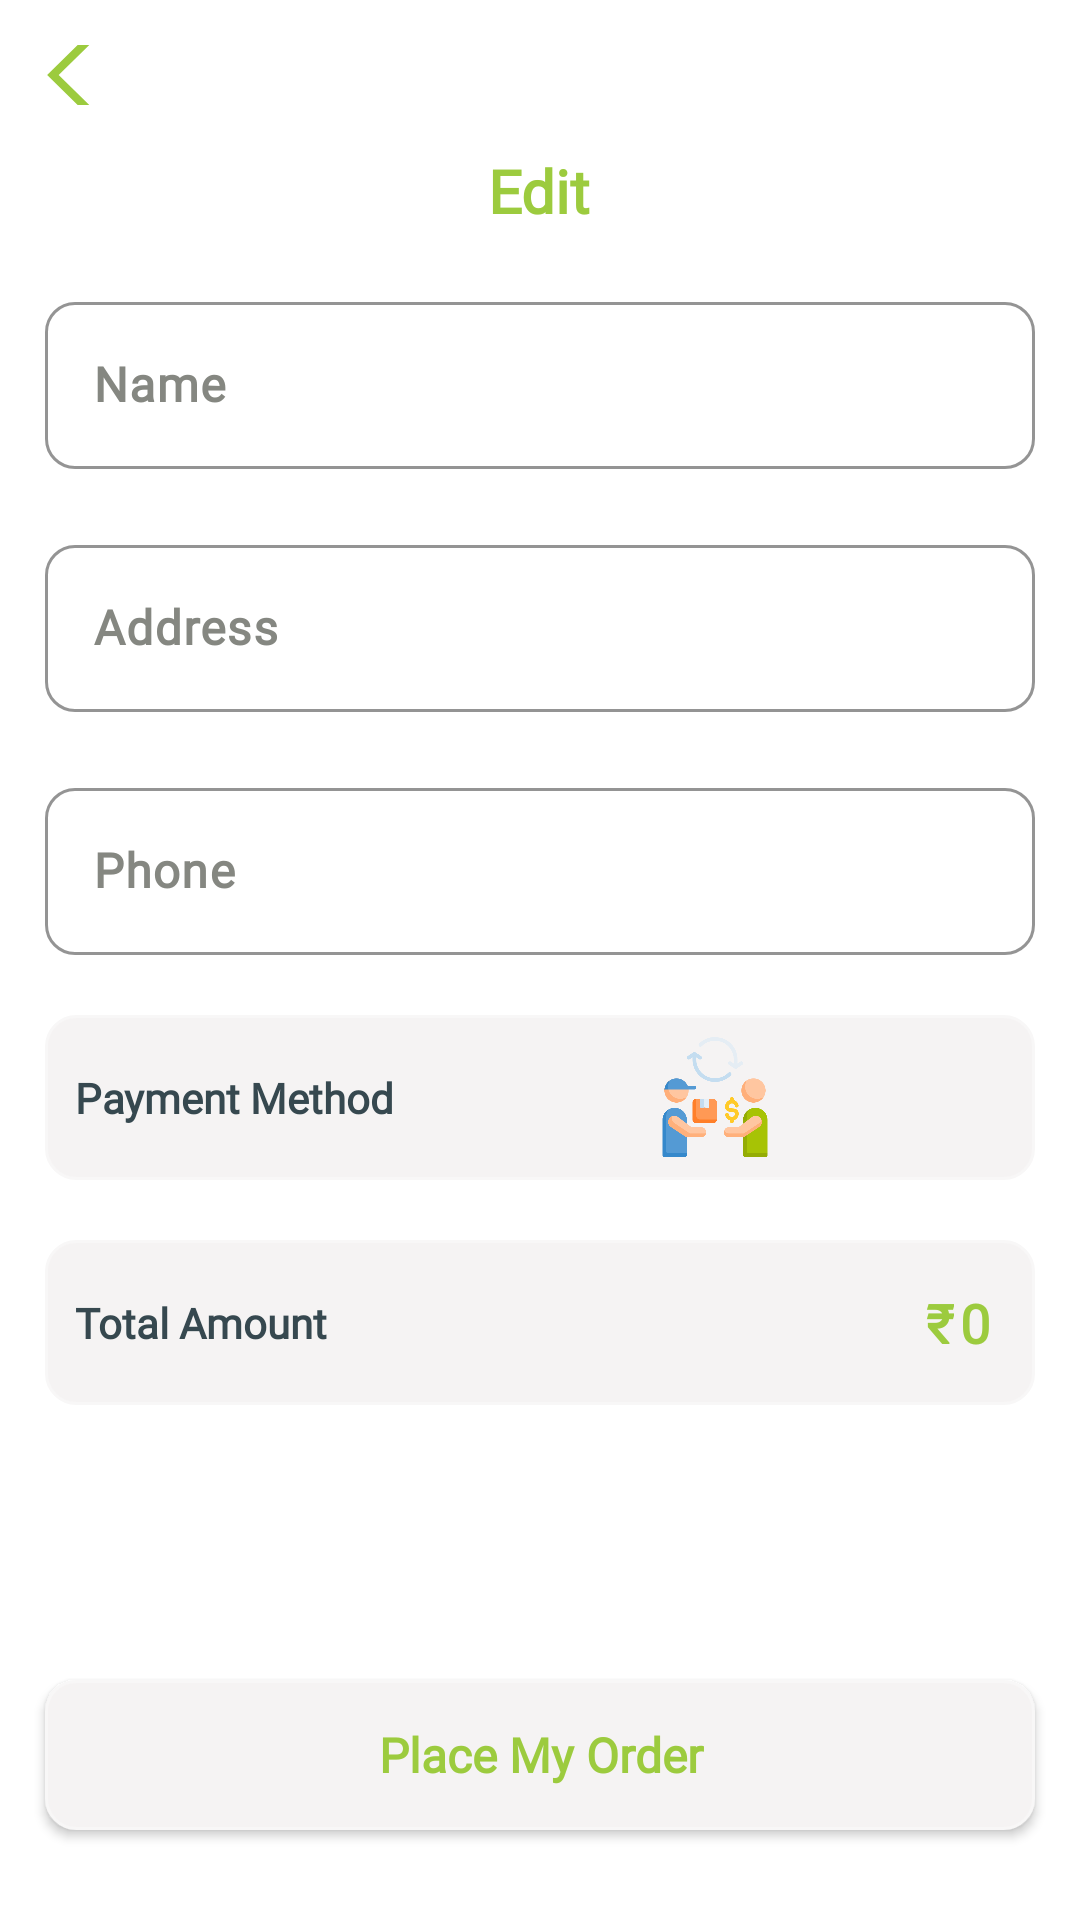

Screen size 1080x1920. Icon name, then its center in pixels as [x,y]:
backarrow: [68,75]
cashon delevery: [715,1104]
